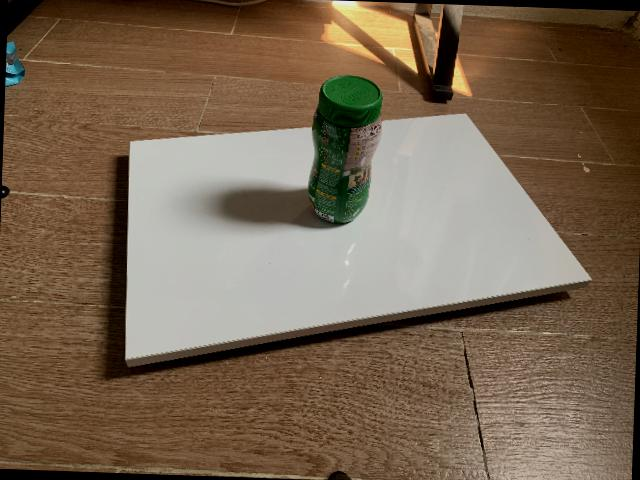milo: (307, 75, 383, 224)
